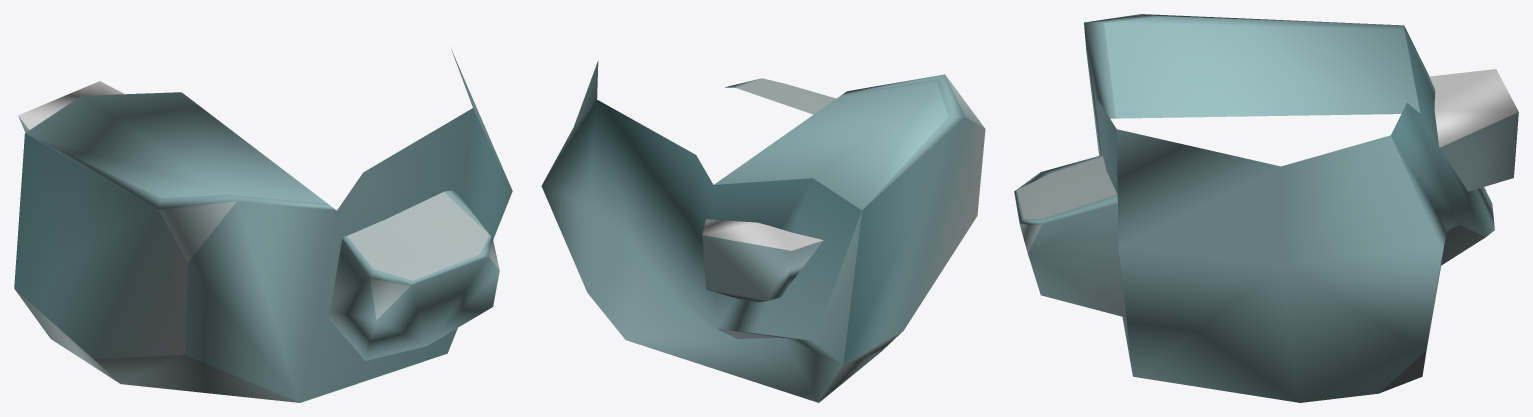
The model's file is WaterRockC.glb.
3 views of the same model, side by side, from view 1: azimuth 30°, elevation 25°; view 2: azimuth 150°, elevation 25°; view 3: azimuth 270°, elevation 25° (orthographic). The views are drawn at different scales.
Visible parts, largest first — view 1: WaterRockC; view 2: WaterRockC; view 3: WaterRockC.
Part boxes in pixels (bbox=[...]): WaterRockC: bbox=[14, 49, 512, 402]; WaterRockC: bbox=[541, 60, 985, 402]; WaterRockC: bbox=[1014, 14, 1518, 402].
Size of the model in its own units: 3.5 by 2.35 by 3.76.
